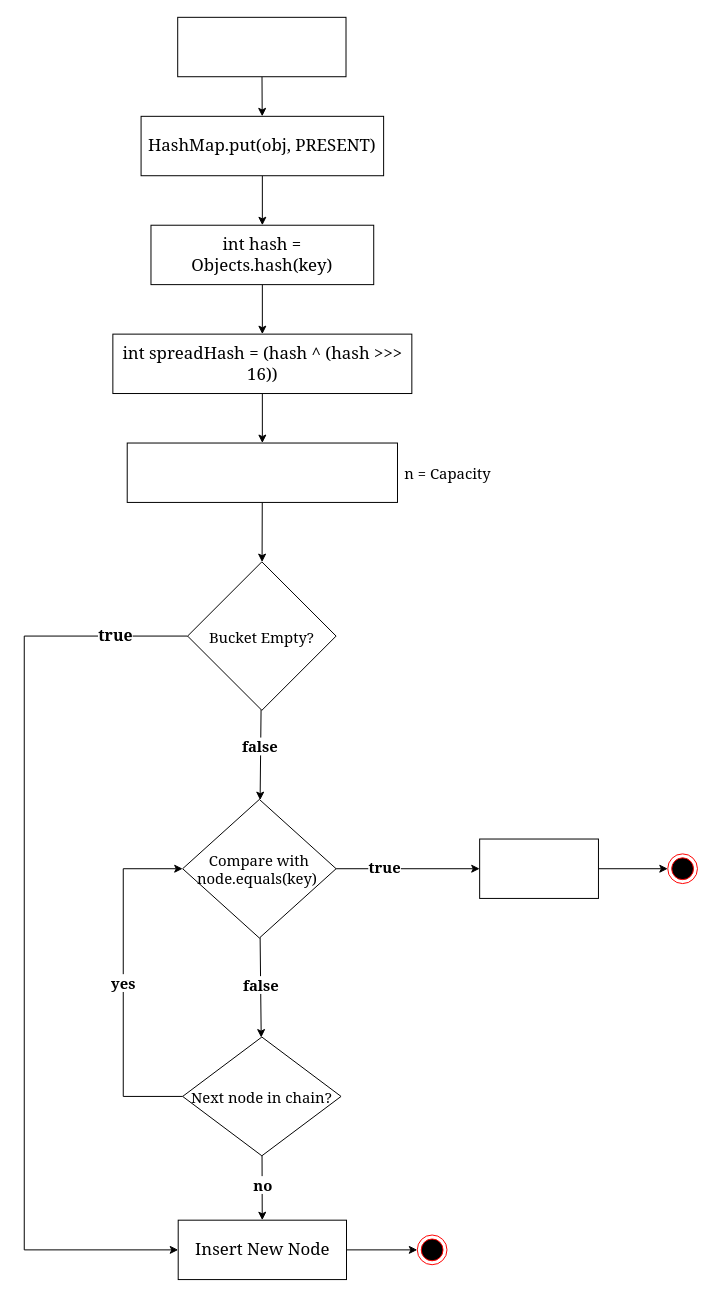
This 715x1297 diagram has some shape labels left out. The centre of each missing label's shape, as x and y in pixels:
"Duplicate - not added" goes at point (538, 868).
"int bucketIndex = spreadHash & (n-1)" goes at point (261, 472).
"set.add(Object obj)" goes at point (261, 46).
